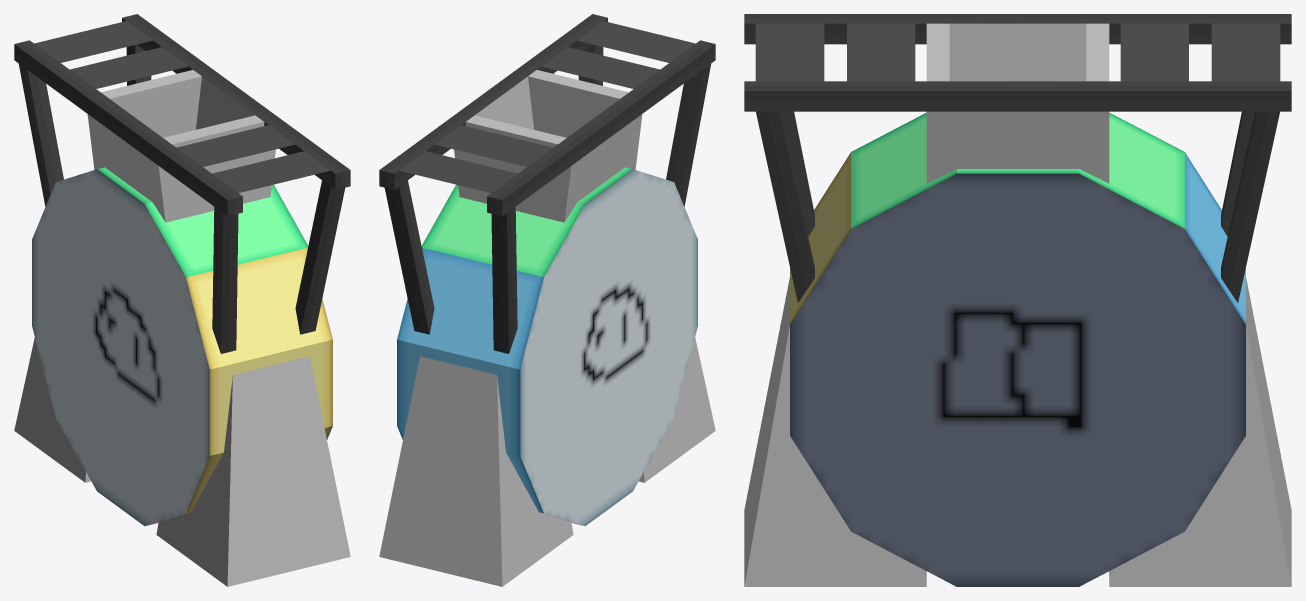
The model's file is large_shredder.obj.
3 views of the same model, side by side, from view 1: azimuth 30°, elevation 25°; view 2: azimuth 150°, elevation 25°; view 3: azimuth 270°, elevation 25° (orthographic). The views are drawn at different scales.
Visible parts, largest first — view 1: cylinder, support1, catwalk2, catwalk4, catwalk5, catwalk3, chute4, chute1, support2, beam1, beam2, beam3 (+2 smaller); view 2: cylinder, support2, catwalk2, catwalk5, catwalk4, catwalk3, chute3, chute1, support1, beam4, beam3, beam2 (+2 smaller); view 3: cylinder, support2, support1, catwalk3, chute2, catwalk4, catwalk5, chute1, catwalk2, beam1, beam4, beam2 (+3 smaller).
Part boxes in pixels (box(x1,y1,x2,y2)): cylinder: box(32, 167, 332, 526); support1: box(156, 356, 350, 586); catwalk2: box(14, 40, 242, 216); catwalk4: box(34, 21, 188, 88); catwalk5: box(177, 125, 330, 192); catwalk3: box(122, 14, 350, 189); chute4: box(101, 70, 201, 137); chute1: box(87, 114, 180, 222); support2: box(14, 337, 90, 482); beam1: box(295, 180, 345, 334); beam2: box(212, 207, 238, 353); beam3: box(19, 64, 63, 206); cylinder: box(397, 167, 697, 526); support2: box(379, 356, 573, 586); catwalk2: box(487, 40, 715, 216); catwalk5: box(541, 21, 695, 88); catwalk4: box(399, 125, 552, 192); catwalk3: box(379, 14, 607, 189); chute3: box(528, 70, 628, 137); chute1: box(549, 114, 642, 222); support1: box(639, 337, 715, 482); beam4: box(384, 180, 434, 334); beam3: box(491, 207, 517, 353); beam2: box(666, 64, 710, 206); cylinder: box(790, 112, 1245, 586); support2: box(1109, 277, 1291, 586); support1: box(744, 277, 926, 586); catwalk3: box(744, 81, 1291, 111); chute2: box(926, 111, 1109, 183); catwalk4: box(1120, 23, 1280, 81); catwalk5: box(755, 23, 915, 81); chute1: box(949, 23, 1086, 81); catwalk2: box(744, 14, 1291, 44); beam1: box(756, 111, 814, 302); beam4: box(1221, 111, 1279, 302); beam2: box(781, 111, 814, 236).
Size of the model in its own units: 1 by 3 by 3.
